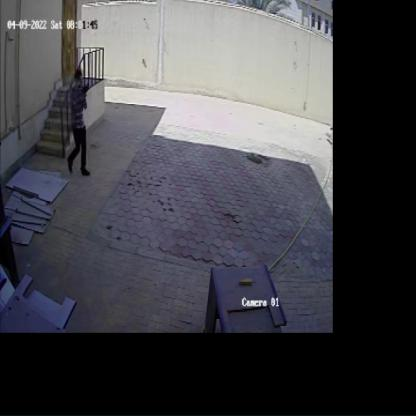handgun: (76, 82, 92, 107)
